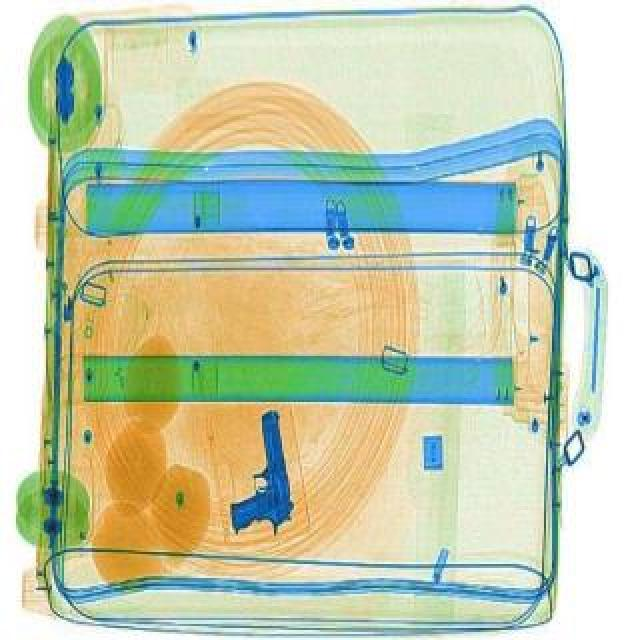gun: (212, 408, 298, 536)
